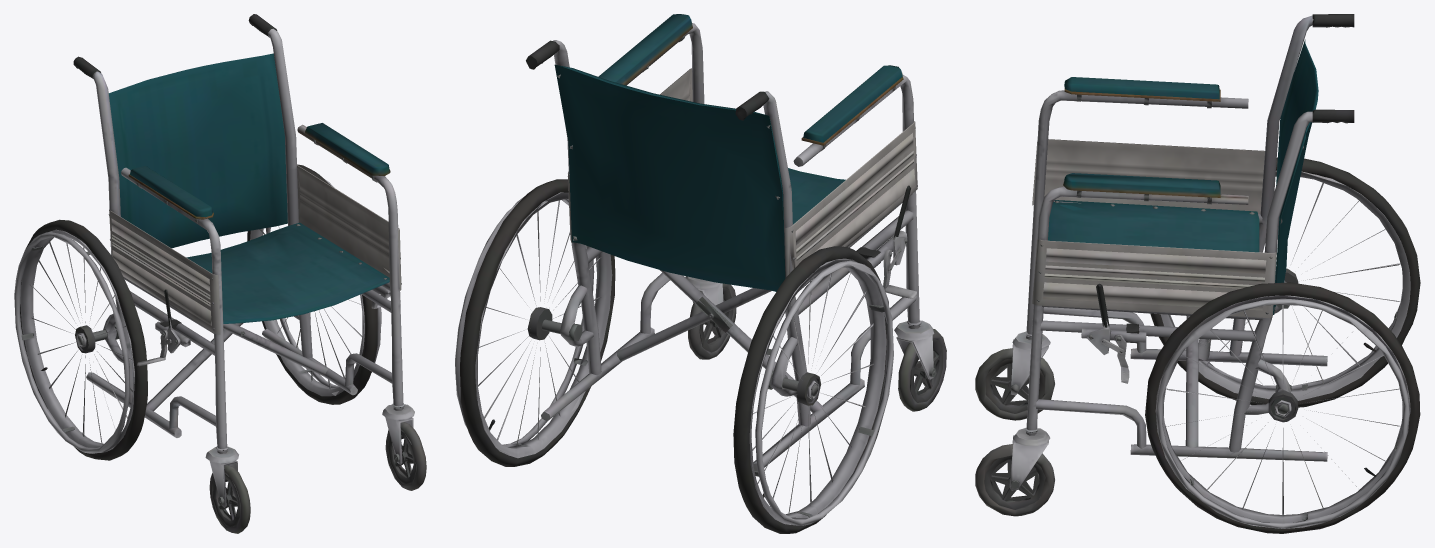
The model's file is wheelchair_01.glb.
3 views of the same model, side by side, from view 1: azimuth 30°, elevation 25°; view 2: azimuth 150°, elevation 25°; view 3: azimuth 270°, elevation 25° (orthographic). The views are drawn at different scales.
Parts seen in each view (by area): view 1: wheelchair_01; view 2: wheelchair_01; view 3: wheelchair_01.
Part boxes in pixels (box(x1,y1,x2,y2)): wheelchair_01: box(14, 14, 426, 533); wheelchair_01: box(455, 14, 946, 533); wheelchair_01: box(975, 14, 1420, 533).
Size of the model in its own units: 0.824 by 1.1 by 1.09.
Materials: 1 (1 with a texture image).
